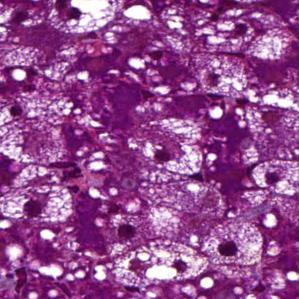ballooning: (119, 238, 210, 284), (47, 4, 119, 37)
